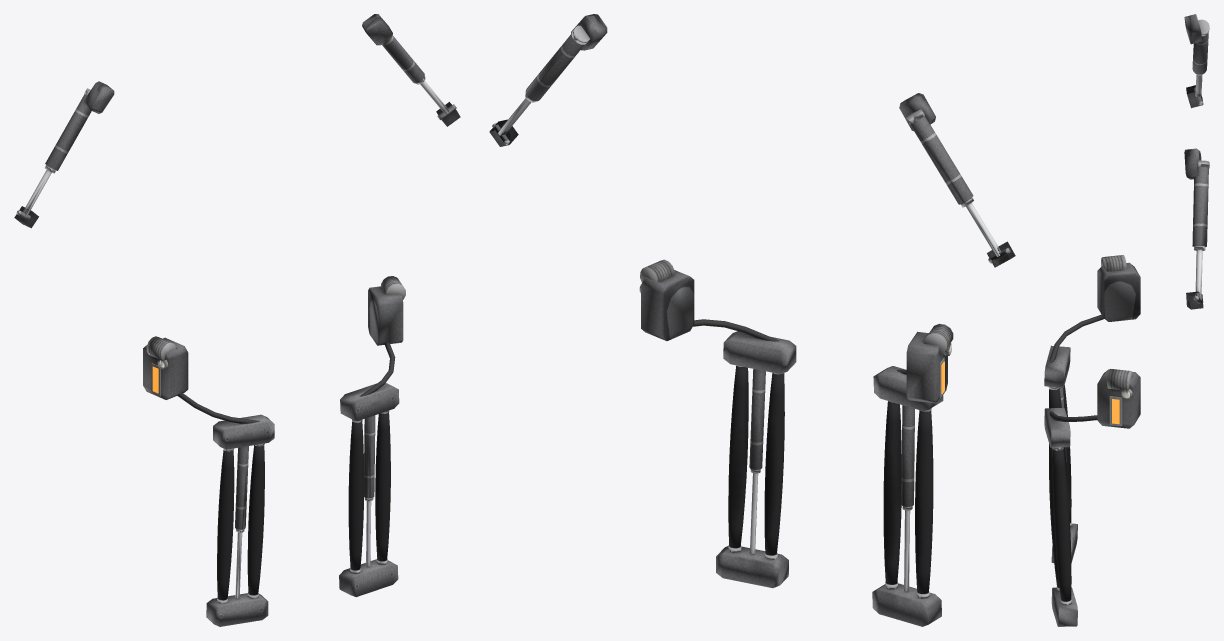
File: hm5_hydraulic_myomer.gltf
3 renders of one model, left to right at view 1: azimuth 30°, elevation 25°; view 2: azimuth 150°, elevation 25°; view 3: azimuth 270°, elevation 25°, orthographic. The views are drawn at different scales.
Visible parts, largest first — view 1: B_thigh_R__hm5_hydraulic_myomer, B_thigh_L__hm5_hydraulic_myomer, B_hips__hm5_hydraulic_myomer, B_upper_arm_R__hm5_hydraulic_myomer, B_upper_arm_L__hm5_hydraulic_myomer; view 2: B_thigh_L__hm5_hydraulic_myomer, B_thigh_R__hm5_hydraulic_myomer, B_hips__hm5_hydraulic_myomer, B_upper_arm_R__hm5_hydraulic_myomer, B_upper_arm_L__hm5_hydraulic_myomer; view 3: B_hips__hm5_hydraulic_myomer, B_thigh_L__hm5_hydraulic_myomer, B_upper_arm_L__hm5_hydraulic_myomer, B_thigh_R__hm5_hydraulic_myomer, B_upper_arm_R__hm5_hydraulic_myomer.
Boxes of the visible parts, bbox=[...] form: B_thigh_R__hm5_hydraulic_myomer: bbox=[177, 392, 274, 626]; B_thigh_L__hm5_hydraulic_myomer: bbox=[339, 342, 399, 597]; B_hips__hm5_hydraulic_myomer: bbox=[143, 276, 405, 399]; B_upper_arm_R__hm5_hydraulic_myomer: bbox=[14, 81, 114, 228]; B_upper_arm_L__hm5_hydraulic_myomer: bbox=[362, 14, 460, 126]; B_thigh_L__hm5_hydraulic_myomer: bbox=[693, 319, 796, 588]; B_thigh_R__hm5_hydraulic_myomer: bbox=[872, 366, 943, 626]; B_hips__hm5_hydraulic_myomer: bbox=[639, 259, 953, 403]; B_upper_arm_R__hm5_hydraulic_myomer: bbox=[899, 93, 1015, 267]; B_upper_arm_L__hm5_hydraulic_myomer: bbox=[489, 14, 607, 146]; B_hips__hm5_hydraulic_myomer: bbox=[1097, 255, 1140, 428]; B_thigh_L__hm5_hydraulic_myomer: bbox=[1044, 408, 1097, 626]; B_upper_arm_L__hm5_hydraulic_myomer: bbox=[1184, 148, 1209, 309]; B_thigh_R__hm5_hydraulic_myomer: bbox=[1044, 314, 1104, 563]; B_upper_arm_R__hm5_hydraulic_myomer: bbox=[1184, 14, 1209, 108].
Size of the model in its own units: 0.7955 by 0.8741 by 0.2598.
1 material, 1 textured.
